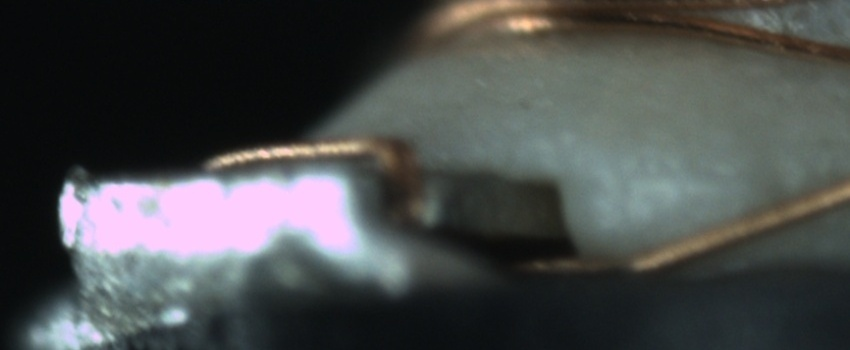DL: (613, 162, 772, 207)
TE: (202, 123, 435, 242)
